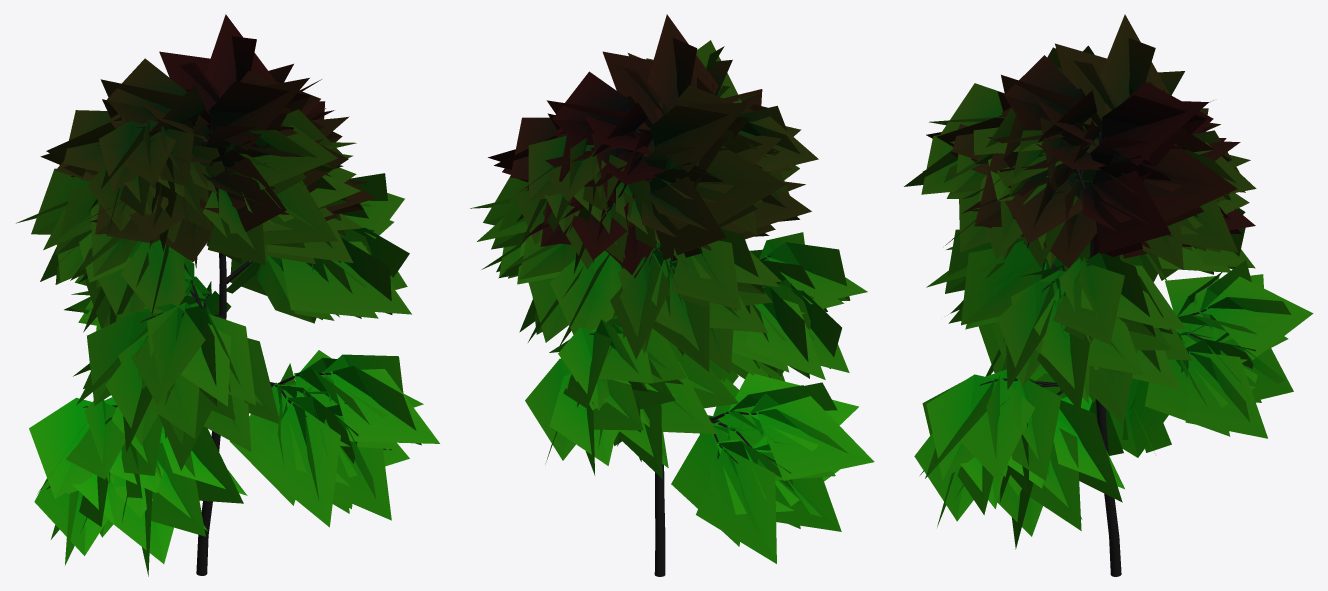
Rendered from birch_tree_3.FBX.
3 renders of one model, left to right at view 1: azimuth 30°, elevation 25°; view 2: azimuth 150°, elevation 25°; view 3: azimuth 270°, elevation 25°, orthographic. The views are drawn at different scales.
Parts seen in each view (by area): view 1: birch_leaves_lod_0, birch_trunk_lod_0, birch_twigs; view 2: birch_leaves_lod_0, birch_trunk_lod_0; view 3: birch_leaves_lod_0, birch_trunk_lod_0, birch_twigs.
Boxes of the visible parts, x1,y1,x2,y2 form: birch_leaves_lod_0: [16, 14, 439, 576]; birch_trunk_lod_0: [196, 253, 226, 575]; birch_twigs: [83, 127, 336, 416]; birch_leaves_lod_0: [470, 14, 874, 563]; birch_trunk_lod_0: [654, 464, 665, 576]; birch_leaves_lod_0: [904, 14, 1313, 549]; birch_trunk_lod_0: [1090, 238, 1121, 576]; birch_twigs: [980, 131, 1240, 413].
Size of what is drawn, in the model's own units: 2.68 by 3.41 by 2.41.
